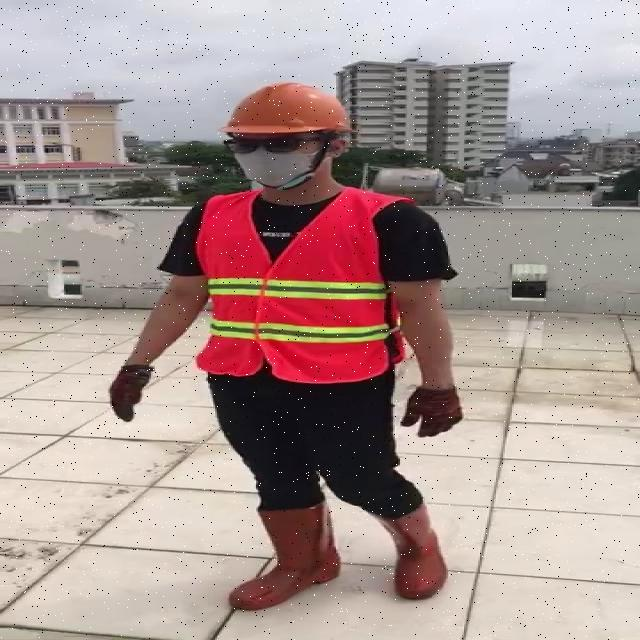Hard_hat: (215, 77, 358, 150)
Person: (96, 77, 474, 635)
Vest: (200, 184, 392, 387)
